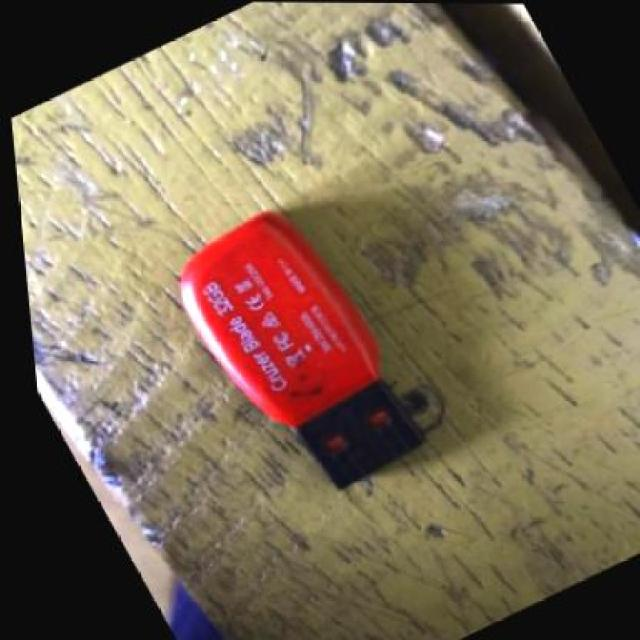Flashdisk: (132, 168, 440, 514)
